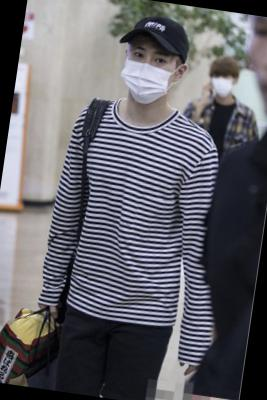with_mask: (120, 43, 180, 108), (209, 72, 234, 101)
without_mask: (240, 17, 267, 117)
